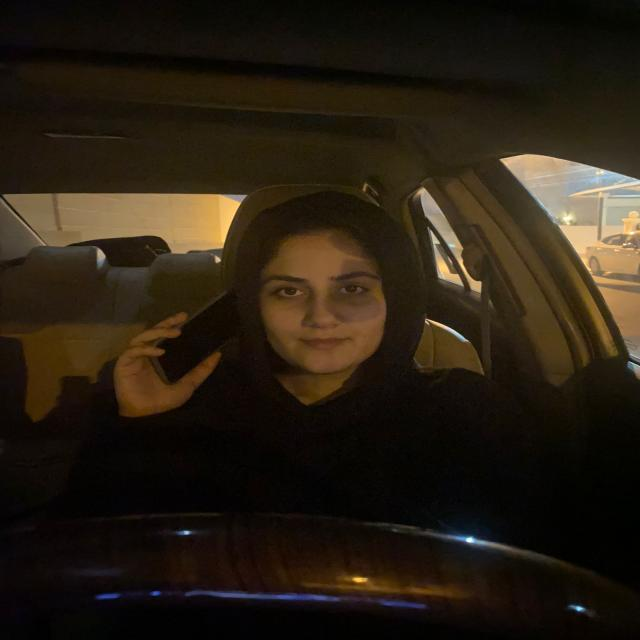mobile: (146, 291, 264, 385)
person: (256, 216, 392, 375)
